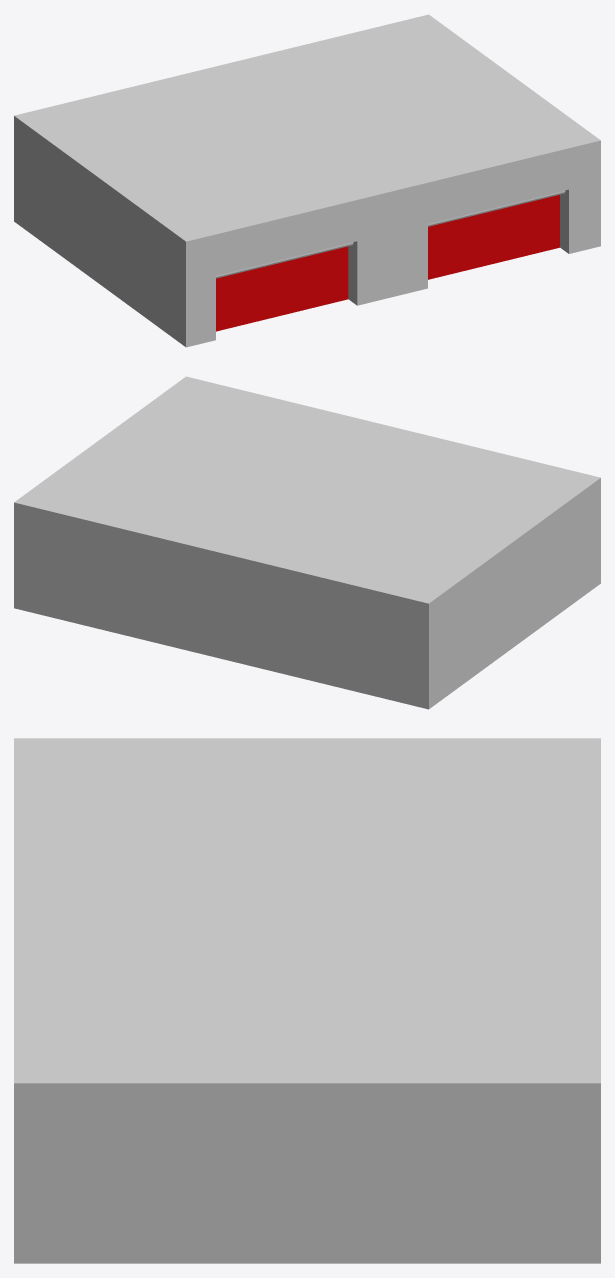
File: Garage.fbx
3 renders of one model, top to bottom at view 1: azimuth 30°, elevation 25°; view 2: azimuth 150°, elevation 25°; view 3: azimuth 270°, elevation 25°, orthographic. The views are drawn at different scales.
Visible parts, largest first — view 1: Garage, Cube.002; view 2: Garage; view 3: Garage.
Boxes of the visible parts, bbox=[...] form: Garage: bbox=[14, 14, 600, 347]; Cube.002: bbox=[216, 190, 565, 278]; Garage: bbox=[14, 376, 600, 709]; Garage: bbox=[14, 738, 600, 1263].
Size of the model in its own units: 1600 by 390 by 1150.
